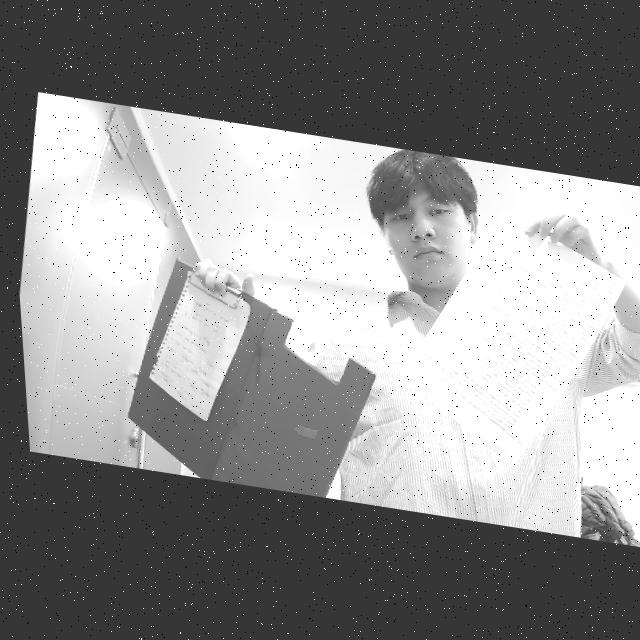document: (399, 210, 627, 468), (150, 270, 253, 422)
face: (362, 150, 475, 296)
